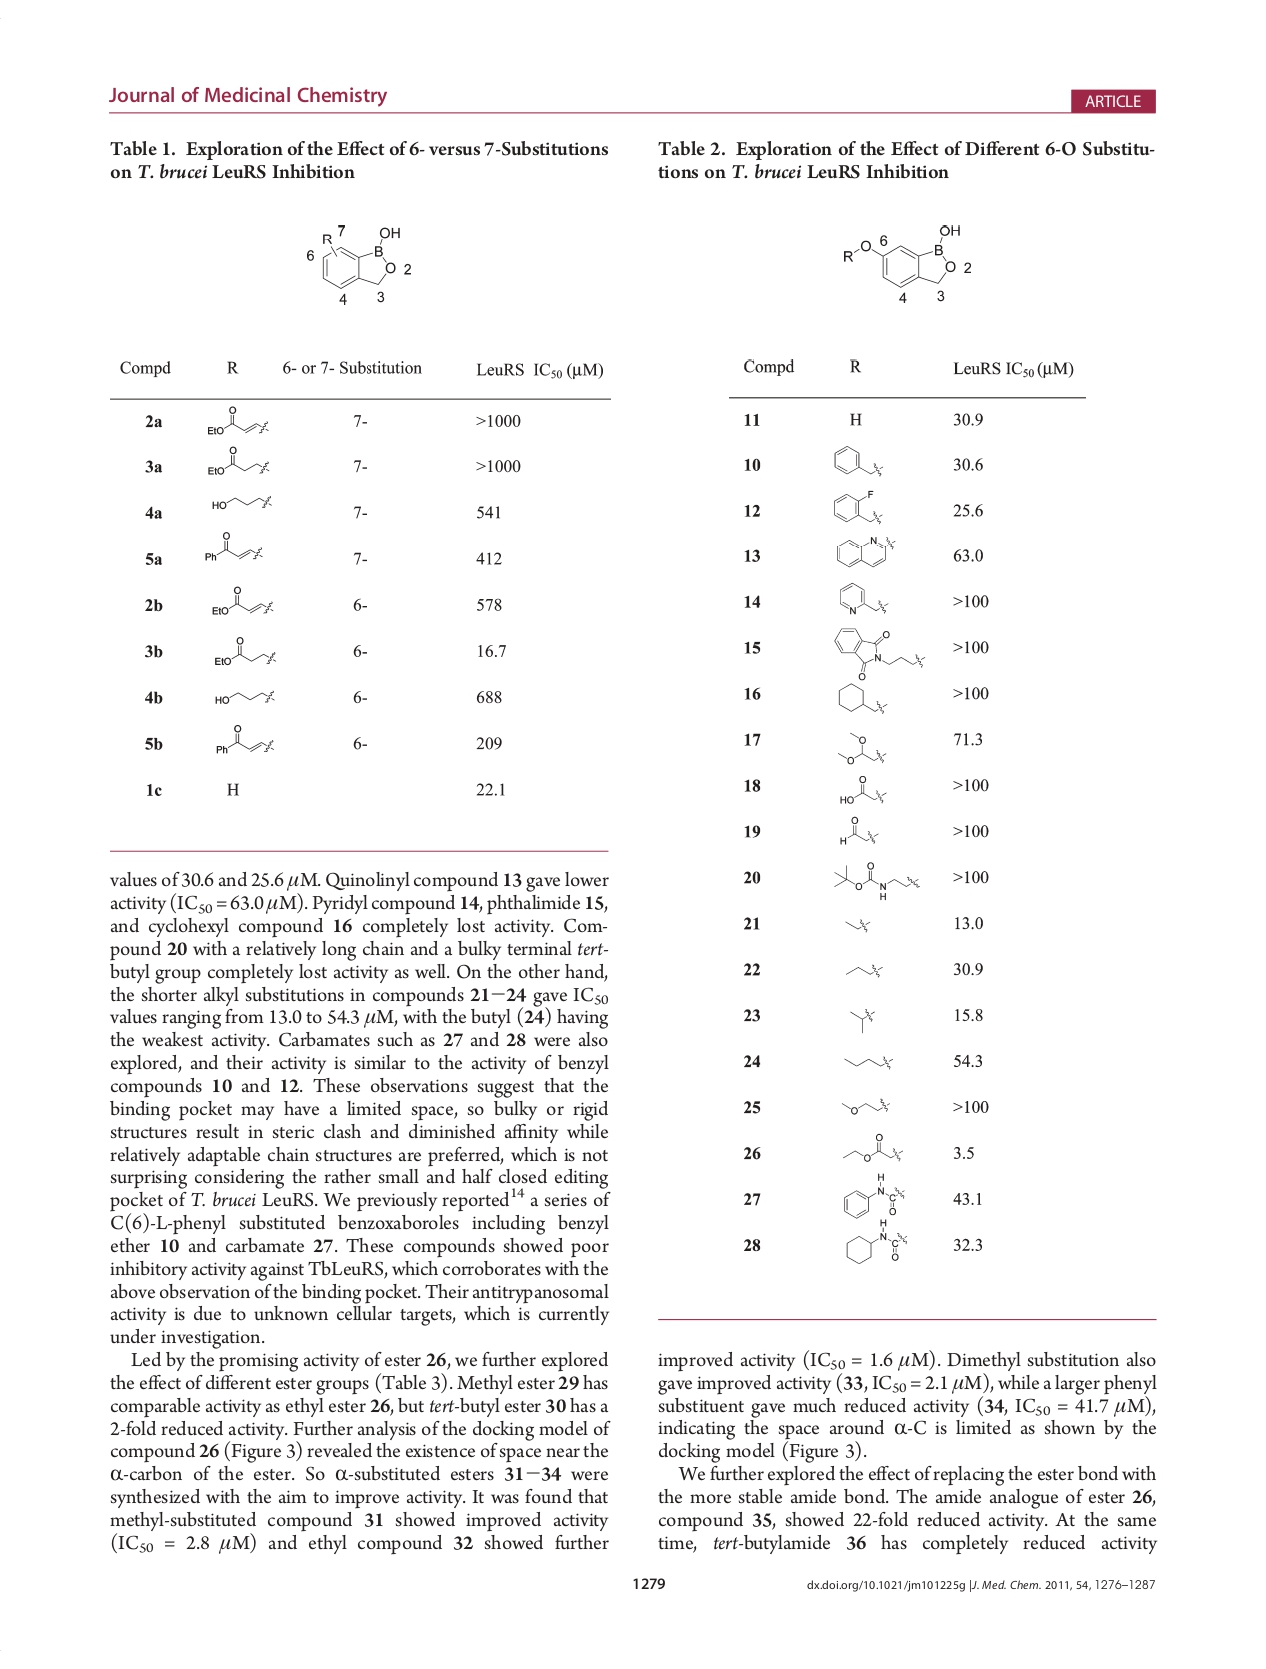exist_molecular: (840, 223, 964, 290), (316, 223, 403, 293), (832, 624, 927, 681), (832, 860, 922, 902), (840, 1217, 910, 1265), (842, 1172, 906, 1218), (203, 440, 275, 477), (203, 402, 273, 440), (203, 529, 269, 567), (213, 634, 282, 668), (840, 1129, 906, 1164), (214, 722, 277, 758), (210, 585, 277, 618), (834, 533, 898, 568), (835, 727, 890, 767), (832, 680, 890, 717), (836, 578, 890, 617), (836, 773, 892, 809), (830, 442, 884, 477), (207, 489, 277, 515), (830, 489, 882, 523), (836, 814, 880, 848), (211, 688, 281, 707), (835, 1094, 892, 1118), (844, 1005, 880, 1037), (842, 1052, 898, 1072), (840, 960, 888, 980), (839, 914, 876, 939)
